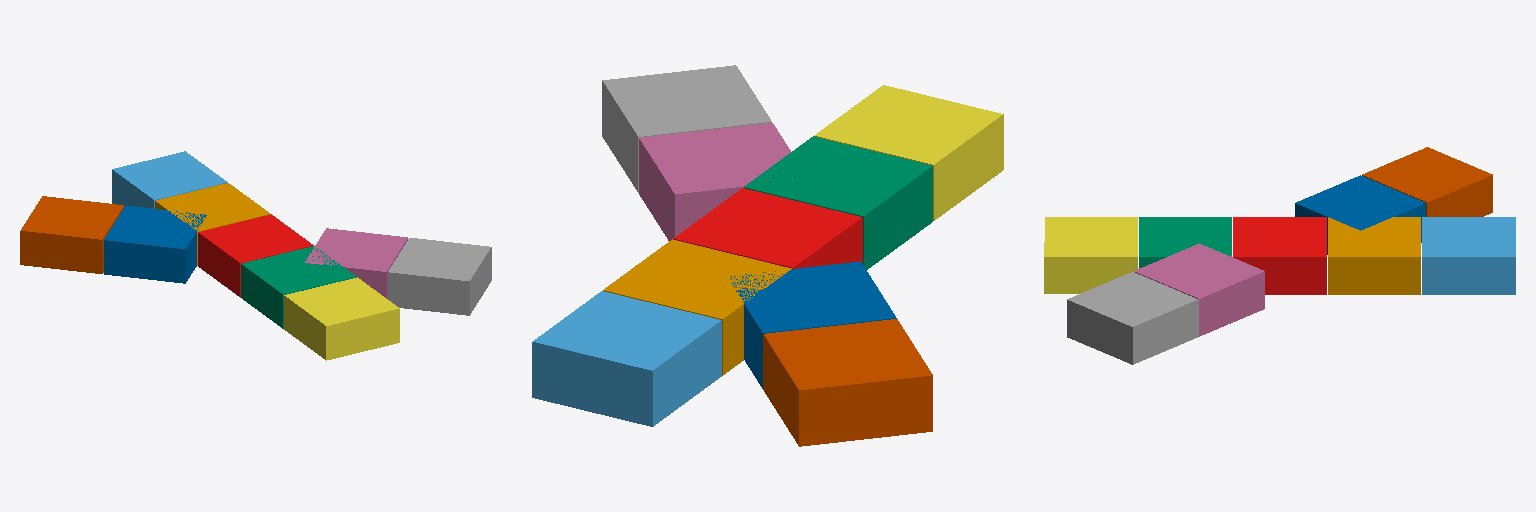
robot.urdf — rob:
<?xml version='1.0' encoding='UTF-8'?>
<robot name="rob">
  <link name="set1_arm1">
    <inertial>
      <origin xyz="0.0 0.34 0.0" rpy="0.0 0.0 0.0"/>
      <mass value="1.0"/>
      <inertia ixx="0.0" ixy="0.0" ixz="0.0" iyy="0.0" iyz="0.0" izz="0.0"/>
    </inertial>
    <visual>
      <geometry>
        <box size="0.67 0.67 0.3 "/>
      </geometry>
      <origin xyz="0.0 0.34 0.0" rpy="0.0 0.0 0.0"/>
    </visual>
    <collision>
      <geometry>
        <box size="0.67 0.67 0.3 "/>
      </geometry>
      <origin xyz="0.0 0.34 0.0" rpy="0.0 0.0 0.0"/>
    </collision>
  </link>
  <link name="set1_arm2">
    <inertial>
      <origin xyz="0.0 0.34 0.0" rpy="0.0 0.0 0.0"/>
      <mass value="1.0"/>
      <inertia ixx="0.0" ixy="0.0" ixz="0.0" iyy="0.0" iyz="0.0" izz="0.0"/>
    </inertial>
    <visual>
      <geometry>
        <box size="0.67 0.67 0.3 "/>
      </geometry>
      <origin xyz="0.0 0.34 0.0" rpy="0.0 0.0 0.0"/>
    </visual>
    <collision>
      <geometry>
        <box size="0.67 0.67 0.3 "/>
      </geometry>
      <origin xyz="0.0 0.34 0.0" rpy="0.0 0.0 0.0"/>
    </collision>
  </link>
  <link name="set2_arm1">
    <inertial>
      <origin xyz="0.0 0.34 0.0" rpy="0.0 0.0 0.0"/>
      <mass value="1.0"/>
      <inertia ixx="0.0" ixy="0.0" ixz="0.0" iyy="0.0" iyz="0.0" izz="0.0"/>
    </inertial>
    <visual>
      <geometry>
        <box size="0.67 0.67 0.3 "/>
      </geometry>
      <origin xyz="0.0 0.34 0.0" rpy="0.0 0.0 0.0"/>
    </visual>
    <collision>
      <geometry>
        <box size="0.67 0.67 0.3 "/>
      </geometry>
      <origin xyz="0.0 0.34 0.0" rpy="0.0 0.0 0.0"/>
    </collision>
  </link>
  <link name="set2_arm2">
    <inertial>
      <origin xyz="0.0 0.34 0.0" rpy="0.0 0.0 0.0"/>
      <mass value="1.0"/>
      <inertia ixx="0.0" ixy="0.0" ixz="0.0" iyy="0.0" iyz="0.0" izz="0.0"/>
    </inertial>
    <visual>
      <geometry>
        <box size="0.67 0.67 0.3 "/>
      </geometry>
      <origin xyz="0.0 0.34 0.0" rpy="0.0 0.0 0.0"/>
    </visual>
    <collision>
      <geometry>
        <box size="0.67 0.67 0.3 "/>
      </geometry>
      <origin xyz="0.0 0.34 0.0" rpy="0.0 0.0 0.0"/>
    </collision>
  </link>
  <link name="set5_arm1">
    <inertial>
      <origin xyz="0.0 0.34 0.0" rpy="0.0 0.0 0.0"/>
      <mass value="1.0"/>
      <inertia ixx="0.0" ixy="0.0" ixz="0.0" iyy="0.0" iyz="0.0" izz="0.0"/>
    </inertial>
    <visual>
      <geometry>
        <box size="0.67 0.67 0.3 "/>
      </geometry>
      <origin xyz="0.0 0.34 0.0" rpy="0.0 0.0 0.0"/>
    </visual>
    <collision>
      <geometry>
        <box size="0.67 0.67 0.3 "/>
      </geometry>
      <origin xyz="0.0 0.34 0.0" rpy="0.0 0.0 0.0"/>
    </collision>
  </link>
  <link name="set5_arm2">
    <inertial>
      <origin xyz="0.0 0.34 0.0" rpy="0.0 0.0 0.0"/>
      <mass value="1.0"/>
      <inertia ixx="0.0" ixy="0.0" ixz="0.0" iyy="0.0" iyz="0.0" izz="0.0"/>
    </inertial>
    <visual>
      <geometry>
        <box size="0.67 0.67 0.3 "/>
      </geometry>
      <origin xyz="0.0 0.34 0.0" rpy="0.0 0.0 0.0"/>
    </visual>
    <collision>
      <geometry>
        <box size="0.67 0.67 0.3 "/>
      </geometry>
      <origin xyz="0.0 0.34 0.0" rpy="0.0 0.0 0.0"/>
    </collision>
  </link>
  <link name="set6_arm1">
    <inertial>
      <origin xyz="0.0 0.34 0.0" rpy="0.0 0.0 0.0"/>
      <mass value="1.0"/>
      <inertia ixx="0.0" ixy="0.0" ixz="0.0" iyy="0.0" iyz="0.0" izz="0.0"/>
    </inertial>
    <visual>
      <geometry>
        <box size="0.67 0.67 0.3 "/>
      </geometry>
      <origin xyz="0.0 0.34 0.0" rpy="0.0 0.0 0.0"/>
    </visual>
    <collision>
      <geometry>
        <box size="0.67 0.67 0.3 "/>
      </geometry>
      <origin xyz="0.0 0.34 0.0" rpy="0.0 0.0 0.0"/>
    </collision>
  </link>
  <link name="set6_arm2">
    <inertial>
      <origin xyz="0.0 0.34 0.0" rpy="0.0 0.0 0.0"/>
      <mass value="1.0"/>
      <inertia ixx="0.0" ixy="0.0" ixz="0.0" iyy="0.0" iyz="0.0" izz="0.0"/>
    </inertial>
    <visual>
      <geometry>
        <box size="0.67 0.67 0.3 "/>
      </geometry>
      <origin xyz="0.0 0.34 0.0" rpy="0.0 0.0 0.0"/>
    </visual>
    <collision>
      <geometry>
        <box size="0.67 0.67 0.3 "/>
      </geometry>
      <origin xyz="0.0 0.34 0.0" rpy="0.0 0.0 0.0"/>
    </collision>
  </link>
  <link name="base_link">
    <inertial>
      <origin xyz="0.0 0.0 0.0" rpy="0.0 -0.0 0.0"/>
      <mass value="1.0"/>
      <inertia ixx="1.0" ixy="0.0" ixz="0.0" iyy="1.0" iyz="0.0" izz="1.0"/>
    </inertial>
    <visual>
      <geometry>
        <box size="0.67 0.67 0.3 "/>
      </geometry>
      <material name="red"/>
      <origin xyz="0.0 0.0 0.0" rpy="0.0 -0.0 0.0"/>
    </visual>
    <collision>
      <geometry>
        <box size="0.67 0.67 0.3 "/>
      </geometry>
      <origin xyz="0.0 0.0 0.0" rpy="0.0 0.0 0.0"/>
    </collision>
  </link>
  <joint name="set1_jointBase" type="fixed">
    <limit effort="1.57" velocity="1.57" lower="-1.57" upper="1.57"/>
    <parent link="base_link"/>
    <child link="set1_arm1"/>
    <axis xyz="1. 0. 0."/>
    <origin xyz="0.0 0.34 0.0" rpy="0.0 0.0 0.0"/>
  </joint>
  <joint name="set1_joint1" type="revolute">
    <limit effort="1.57" velocity="1.57" lower="-1.57" upper="1.57"/>
    <parent link="set1_arm1"/>
    <child link="set1_arm2"/>
    <axis xyz="1. 0. 0."/>
    <origin xyz="0.0 0.68 0.0" rpy="0.0 0.0 0.0"/>
  </joint>
  <joint name="set2_jointBase" type="fixed">
    <limit effort="1.57" velocity="1.57" lower="-1.57" upper="1.57"/>
    <parent link="base_link"/>
    <child link="set2_arm1"/>
    <axis xyz="1. 0. 0."/>
    <origin xyz="0.0 -0.34 0.0" rpy="0.0 0.0 3.141"/>
  </joint>
  <joint name="set2_joint1" type="revolute">
    <limit effort="1.57" velocity="1.57" lower="-1.57" upper="1.57"/>
    <parent link="set2_arm1"/>
    <child link="set2_arm2"/>
    <axis xyz="1. 0. 0."/>
    <origin xyz="0.0 0.68 0.0" rpy="0.0 0.0 0.0"/>
  </joint>
  <joint name="set5_jointBase" type="fixed">
    <limit effort="1.57" velocity="1.57" lower="-1.57" upper="1.57"/>
    <parent link="base_link"/>
    <child link="set5_arm1"/>
    <axis xyz="1. 0. 0."/>
    <origin xyz="-0.34 0.34 0.0" rpy="0.0 0.0 0.785"/>
  </joint>
  <joint name="set5_joint1" type="revolute">
    <limit effort="1.57" velocity="1.57" lower="-1.57" upper="1.57"/>
    <parent link="set5_arm1"/>
    <child link="set5_arm2"/>
    <axis xyz="1. 0. 0."/>
    <origin xyz="0.0 0.68 0.0" rpy="0.0 0.0 0.0"/>
  </joint>
  <joint name="set6_jointBase" type="fixed">
    <limit effort="1.57" velocity="1.57" lower="-1.57" upper="1.57"/>
    <parent link="base_link"/>
    <child link="set6_arm1"/>
    <axis xyz="1. 0. 0."/>
    <origin xyz="0.34 -0.34 0.0" rpy="0.0 0.0 -2.355"/>
  </joint>
  <joint name="set6_joint1" type="revolute">
    <limit effort="1.57" velocity="1.57" lower="-1.57" upper="1.57"/>
    <parent link="set6_arm1"/>
    <child link="set6_arm2"/>
    <axis xyz="1. 0. 0."/>
    <origin xyz="0.0 0.68 0.0" rpy="0.0 0.0 0.0"/>
  </joint>
  <material name="red">
    <color rgba="0.969 0.129 0.122 1.   "/>
  </material>
</robot>

--- Render facts (derived) ---
Views: 3 orthographic renders of the robot side by side, from view 1: azimuth 30°, elevation 25°; view 2: azimuth 150°, elevation 25°; view 3: azimuth 270°, elevation 25°.
Robot: rob — 9 links, 8 joints (4 revolute, 4 fixed); root link base_link; default pose: all joints at 0.
Links seen in each view (by area): view 1: set2_arm2, set6_arm2, set5_arm1, set5_arm2, base_link, set2_arm1, set1_arm2, set6_arm1, set1_arm1; view 2: set1_arm2, set5_arm2, set2_arm2, set2_arm1, set6_arm1, set6_arm2, base_link, set1_arm1, set5_arm1; view 3: set6_arm2, set1_arm2, set1_arm1, set2_arm2, base_link, set6_arm1, set5_arm2, set5_arm1, set2_arm1.
Boxes of the visible links, x1=… form: set2_arm2: x1=284, y1=277, x2=399, y2=360; set6_arm2: x1=388, y1=238, x2=491, y2=315; set5_arm1: x1=104, y1=206, x2=206, y2=283; set5_arm2: x1=20, y1=196, x2=123, y2=273; base_link: x1=198, y1=214, x2=313, y2=297; set2_arm1: x1=241, y1=246, x2=356, y2=328; set1_arm2: x1=112, y1=151, x2=227, y2=208; set6_arm1: x1=305, y1=228, x2=407, y2=298; set1_arm1: x1=155, y1=183, x2=270, y2=265; set1_arm2: x1=532, y1=291, x2=721, y2=426; set5_arm2: x1=763, y1=319, x2=932, y2=446; set2_arm2: x1=814, y1=85, x2=1003, y2=220; set2_arm1: x1=744, y1=136, x2=932, y2=269; set6_arm1: x1=639, y1=123, x2=792, y2=240; set6_arm2: x1=602, y1=65, x2=771, y2=192; base_link: x1=673, y1=188, x2=862, y2=268; set1_arm1: x1=603, y1=239, x2=791, y2=375; set5_arm1: x1=730, y1=261, x2=896, y2=388; set6_arm2: x1=1067, y1=272, x2=1198, y2=364; set1_arm2: x1=1422, y1=217, x2=1515, y2=294; set1_arm1: x1=1328, y1=217, x2=1420, y2=294; set2_arm2: x1=1044, y1=217, x2=1137, y2=293; base_link: x1=1233, y1=217, x2=1326, y2=294; set6_arm1: x1=1134, y1=243, x2=1264, y2=336; set5_arm2: x1=1362, y1=147, x2=1492, y2=216; set5_arm1: x1=1295, y1=175, x2=1425, y2=254; set2_arm1: x1=1139, y1=217, x2=1231, y2=268.
Size in the robot's own frame: 3.07 by 3.39 by 0.3 metres.
Geometry: primitives only (box / cylinder / sphere), no mesh files.